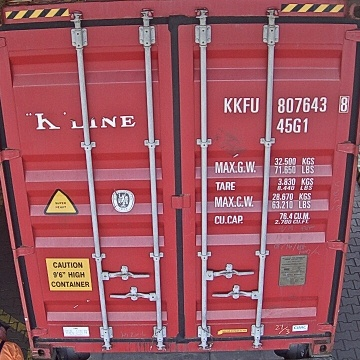serial_id: (224, 95, 349, 112)
